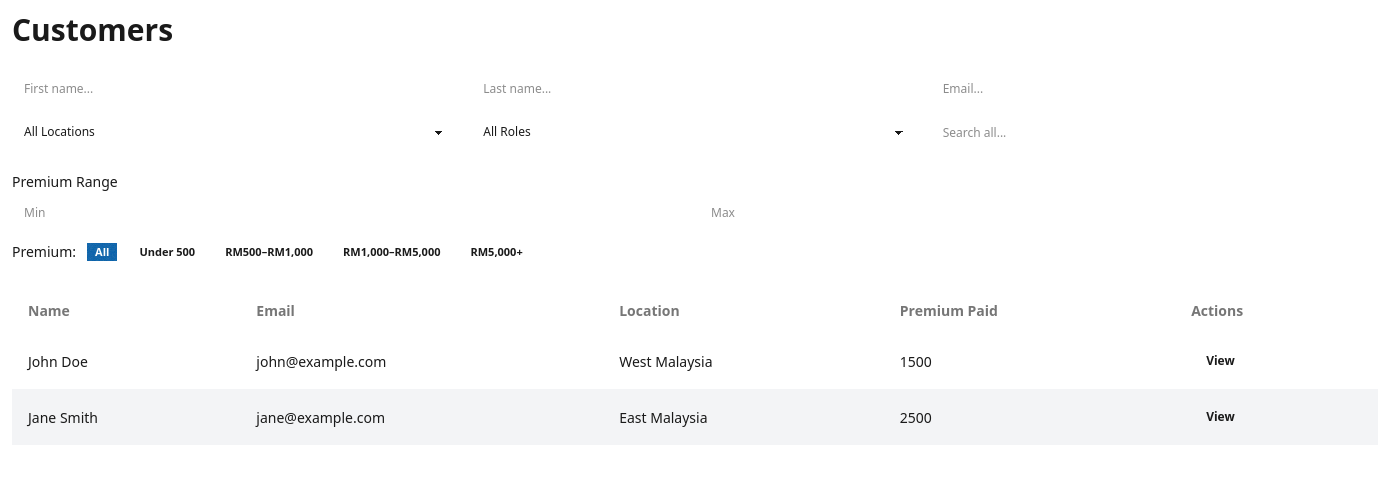
Scenario: Premium Range Search › Active premium badge › shows premium range badge when premiumMin is set
// Set a premium min
Type "500" into the number field named "Minimum premium paid" at (352, 212), box [12,196,691,228]
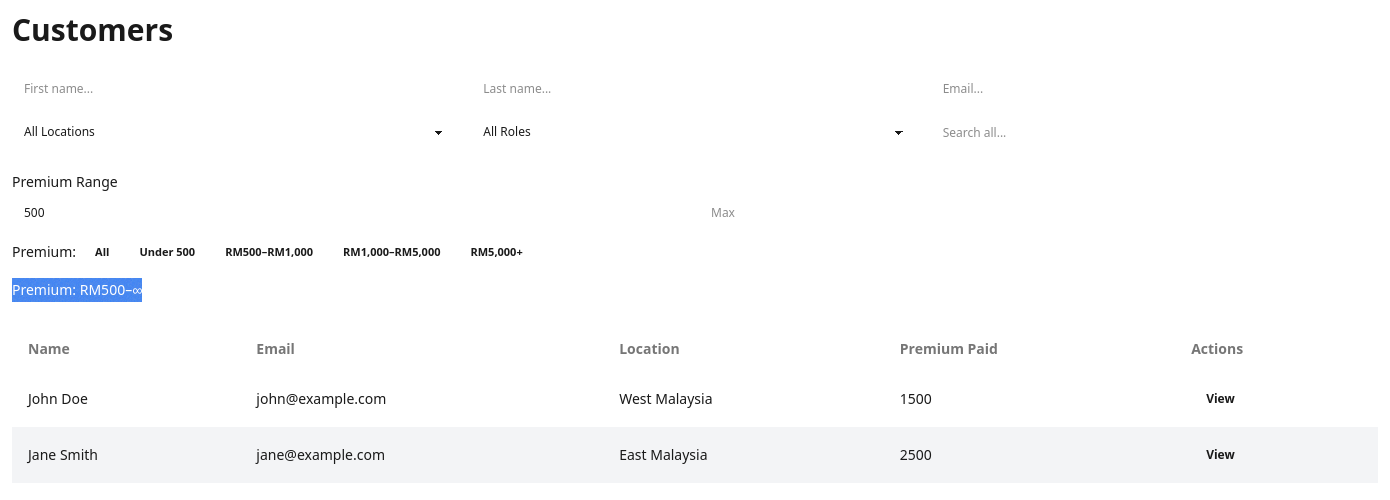
Now the text "Premium: RM500–∞" is shown, box [12,278,142,302]
